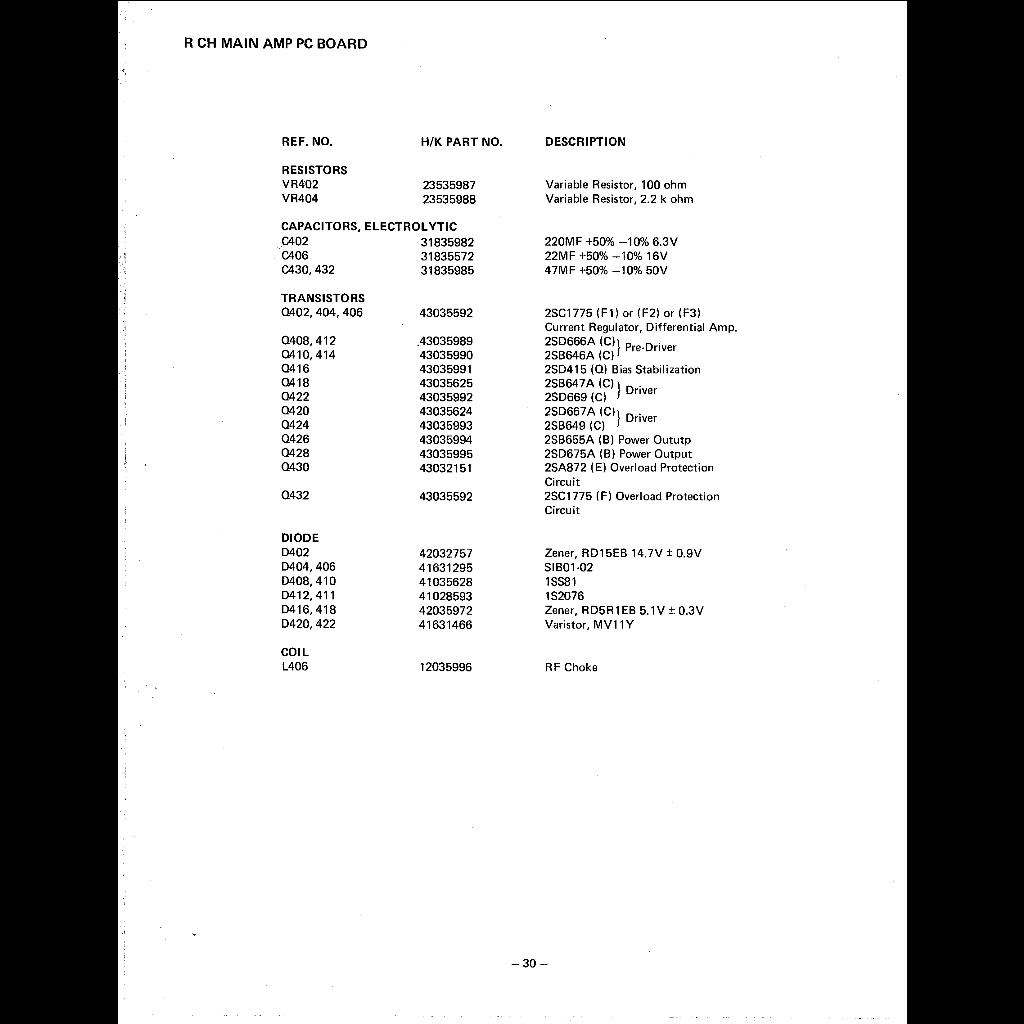Table: (275, 124, 743, 696)
